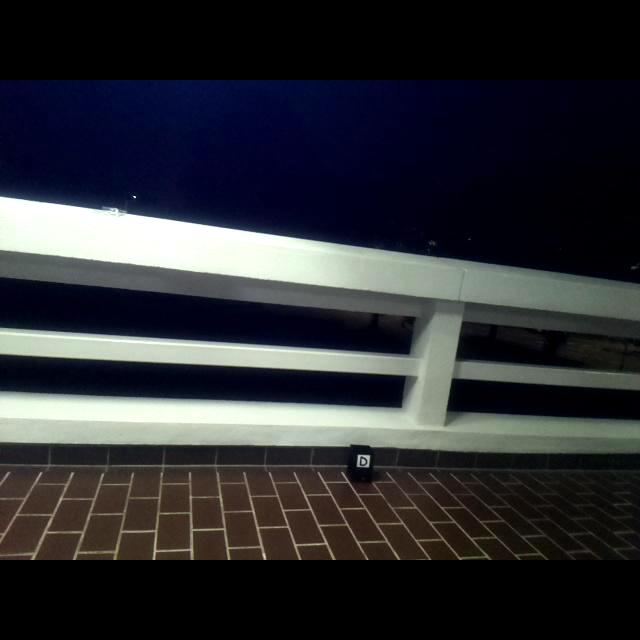D: (359, 455, 368, 467)
